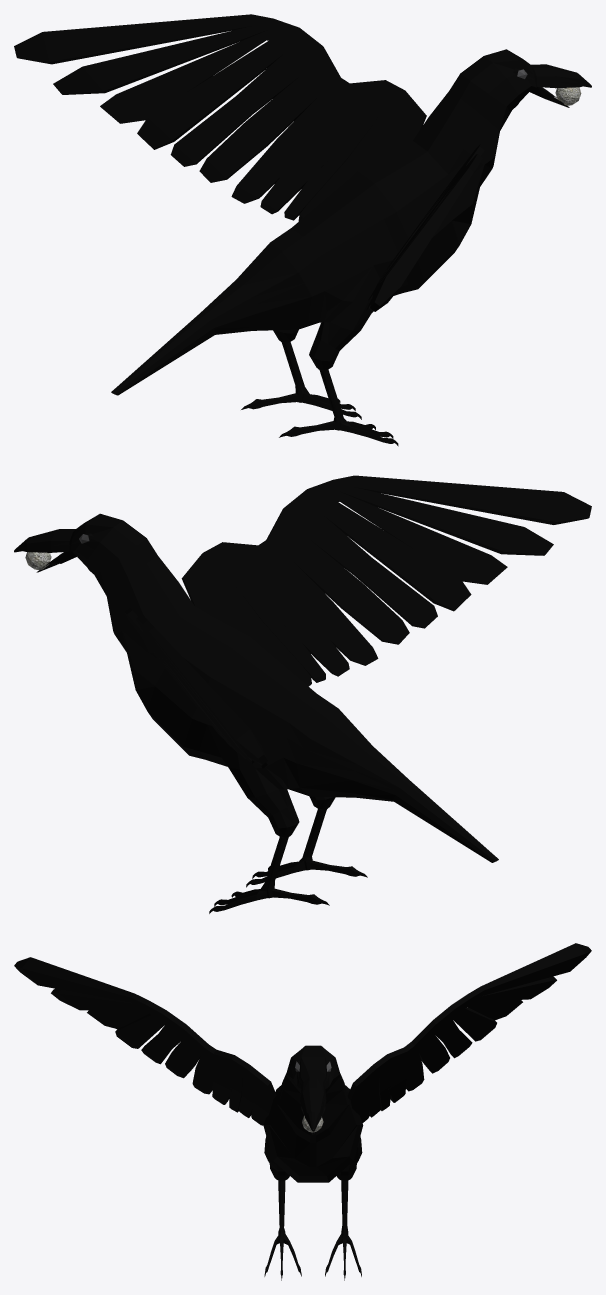
The model's file is crow_full_up_wings_stone.obj.
3 renders of one model, top to bottom at view 1: azimuth 30°, elevation 25°; view 2: azimuth 150°, elevation 25°; view 3: azimuth 270°, elevation 25°, orthographic. The views are drawn at different scales.
Visible parts, largest first — view 1: Cylinder.001; view 2: Cylinder.001; view 3: Cylinder.001.
Part boxes in pixels (x1=…): Cylinder.001: x1=14, y1=14, x2=591, y2=446; Cylinder.001: x1=14, y1=475, x2=591, y2=913; Cylinder.001: x1=14, y1=943, x2=591, y2=1280.
Bounding box in the file's own units: 1.52 × 1.04 × 1.9.
